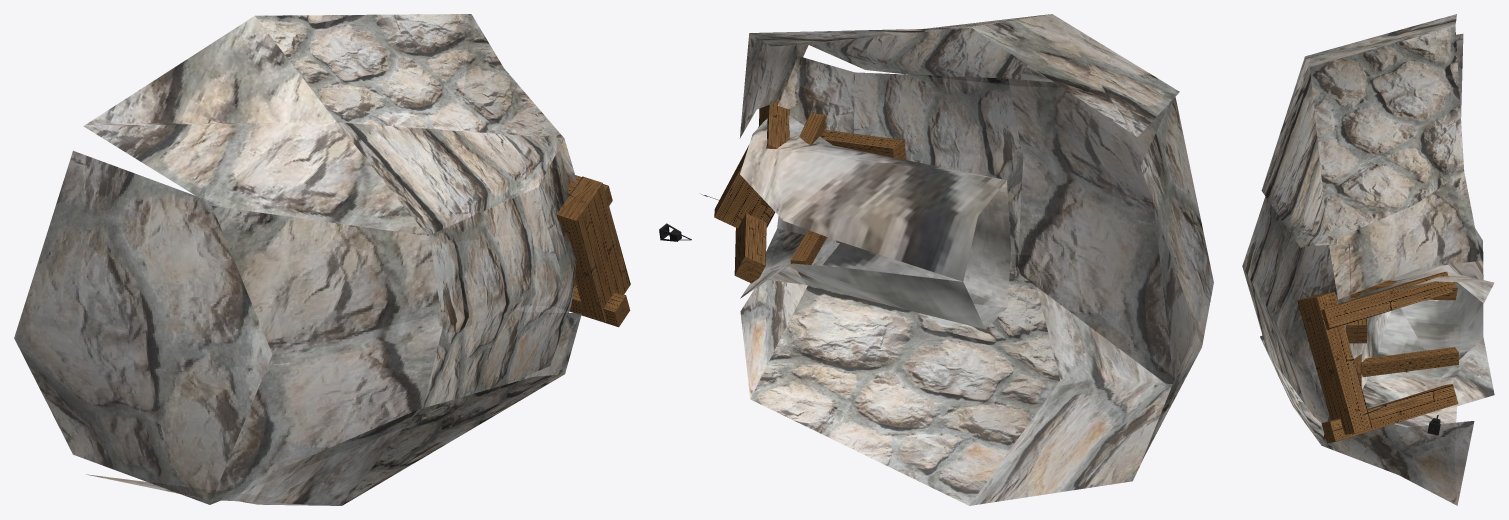
Rendered from mine_000013.obj.
3 renders of one model, left to right at view 1: azimuth 30°, elevation 25°; view 2: azimuth 150°, elevation 25°; view 3: azimuth 270°, elevation 25°, orthographic. The views are drawn at different scales.
Visible parts, largest first — view 1: Cube.010, Cube.009, Cube, Cube.001, Cube.003; view 2: Cube.010, Cube, Cube.009, Cube.001, Cube.003, Cube.005, Cube.002, Cube.006; view 3: Cube.009, Cube.010, Cube, Cube.001, Cube.002, Cube.003, Cube.006, Cube.005, Cube.007.
Part boxes in pixels (bbox=[...]): Cube.010: bbox=[14, 150, 576, 504]; Cube.009: bbox=[83, 14, 577, 235]; Cube: bbox=[86, 313, 581, 505]; Cube.001: bbox=[557, 176, 630, 322]; Cube.003: bbox=[569, 286, 630, 327]; Cube.010: bbox=[740, 56, 1213, 462]; Cube: bbox=[740, 266, 1172, 505]; Cube.009: bbox=[739, 14, 1179, 138]; Cube.001: bbox=[714, 116, 826, 228]; Cube.003: bbox=[734, 213, 766, 283]; Cube.005: bbox=[821, 130, 906, 159]; Cube.002: bbox=[759, 101, 789, 148]; Cube.006: bbox=[790, 230, 827, 264]; Cube.009: bbox=[1261, 14, 1481, 299]; Cube.010: bbox=[1242, 33, 1494, 422]; Cube: bbox=[1260, 335, 1474, 505]; Cube.001: bbox=[1297, 292, 1372, 434]; Cube.002: bbox=[1321, 271, 1452, 329]; Cube.003: bbox=[1321, 384, 1458, 443]; Cube.006: bbox=[1361, 347, 1458, 376]; Cube.005: bbox=[1346, 297, 1366, 343]; Cube.007: bbox=[1351, 280, 1457, 300].
Size of the model in its own units: 9.44 by 7.81 by 4.13.
